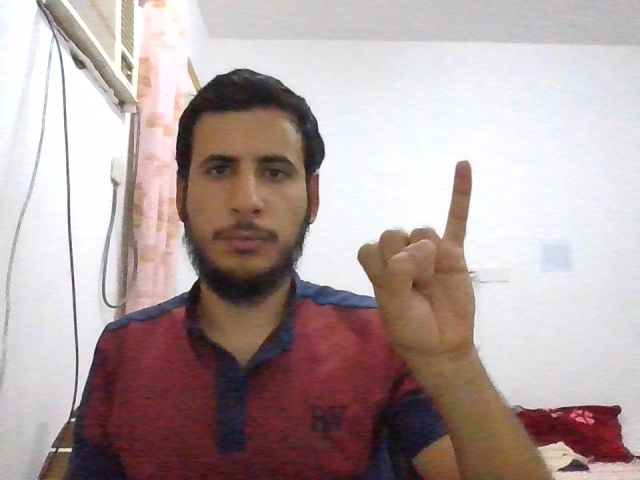One: (359, 161, 478, 352)
